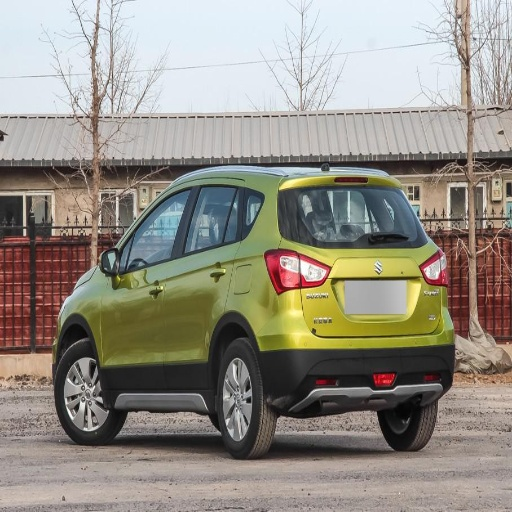back_bumper: (253, 292, 454, 413)
back_glass: (279, 185, 425, 246)
back_left_door: (165, 181, 239, 390)
tailgate: (313, 240, 432, 331)
trunk: (287, 246, 441, 336)
